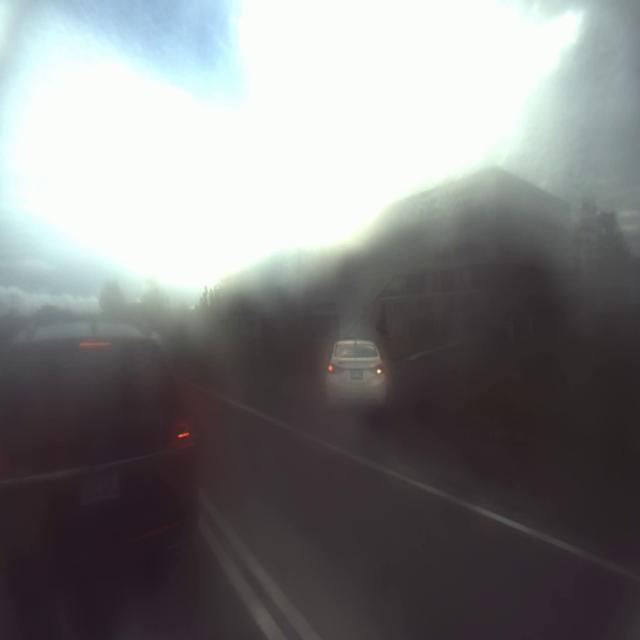car: (320, 319, 387, 429)
